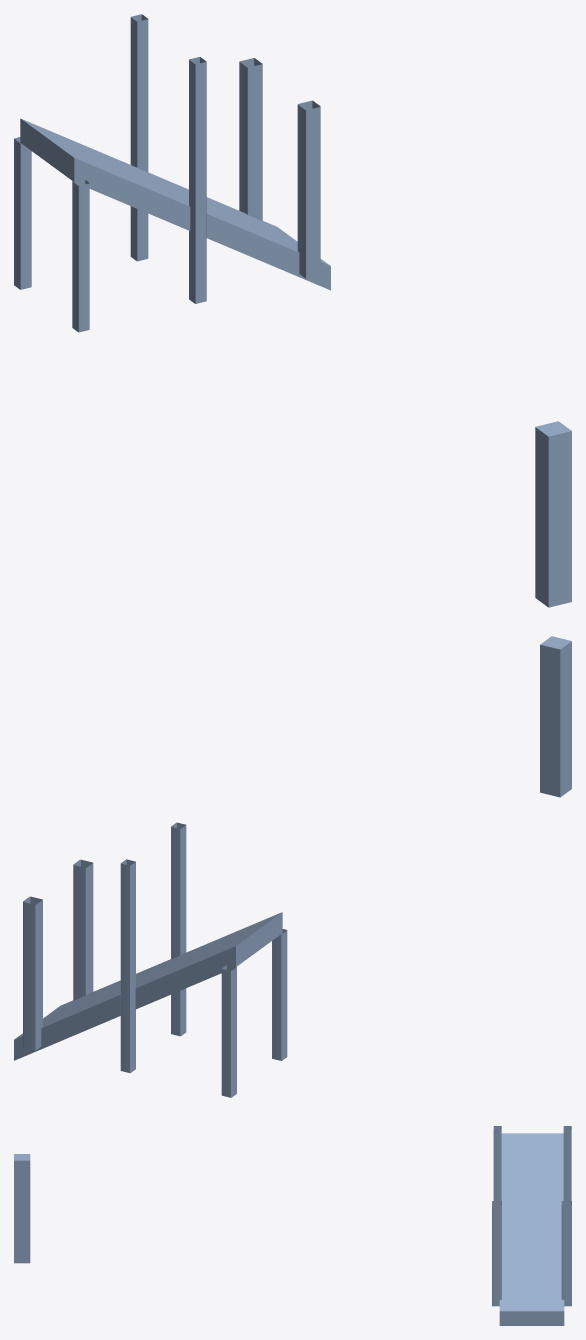
Rendered from SM_basement.fbx.
The picture shows the model from 3 angles, top to bottom: view 1: azimuth 30°, elevation 25°; view 2: azimuth 150°, elevation 25°; view 3: azimuth 270°, elevation 25°; orthographic projection. The views are drawn at different scales.
Visible parts, largest first — view 1: pCube277, Hallway44, pCube64; view 2: pCube277, Hallway44, pCube64; view 3: Hallway44, pCube277, pCube64.
Boxes of the visible parts, bbox=[...] form: pCube277: bbox=[14, 14, 320, 332]; Hallway44: bbox=[20, 118, 330, 290]; pCube64: bbox=[535, 421, 571, 607]; pCube277: bbox=[23, 822, 287, 1097]; Hallway44: bbox=[14, 912, 282, 1060]; pCube64: bbox=[540, 636, 571, 797]; Hallway44: bbox=[499, 1133, 564, 1325]; pCube277: bbox=[492, 1126, 571, 1306]; pCube64: bbox=[14, 1154, 30, 1263].
Bounding box in the file's own units: 551 × 541 × 1724.
